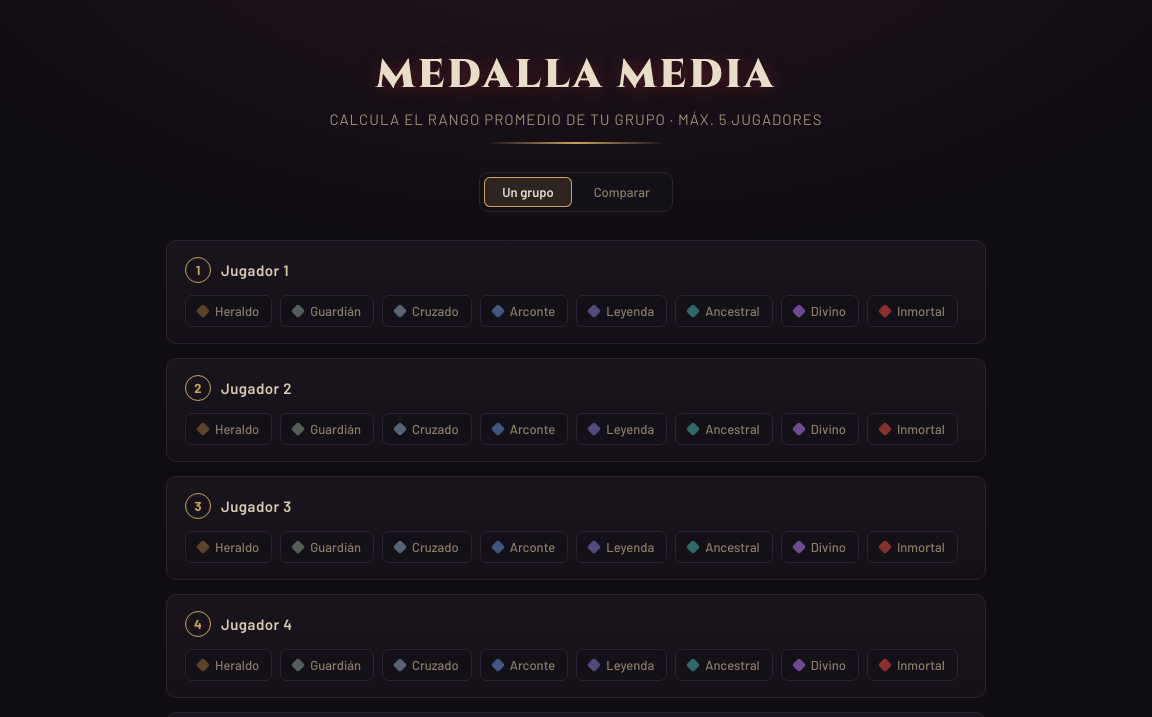
Test case: App · comparison mode › refuses to pick a winner when the ranges overlap
Click the button "Comparar".
click(622, 192)  # box [576,177,668,207]
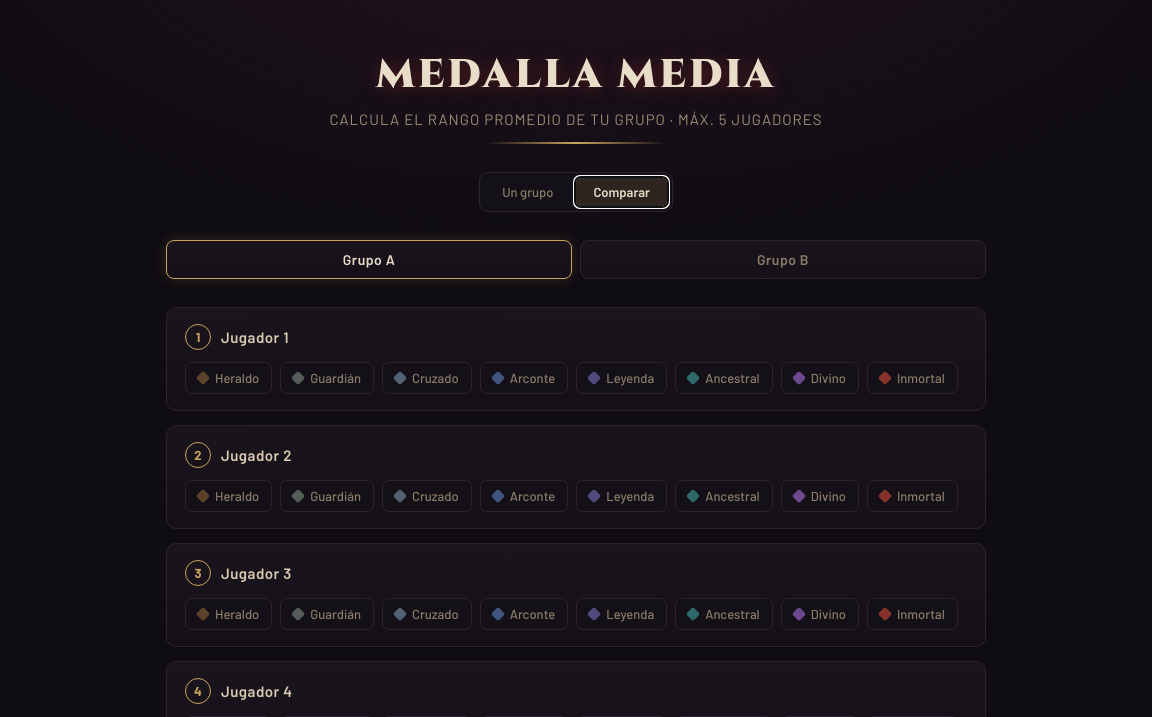
Click the 1st button "Arconte".
click(524, 378)  # box [480,362,568,394]
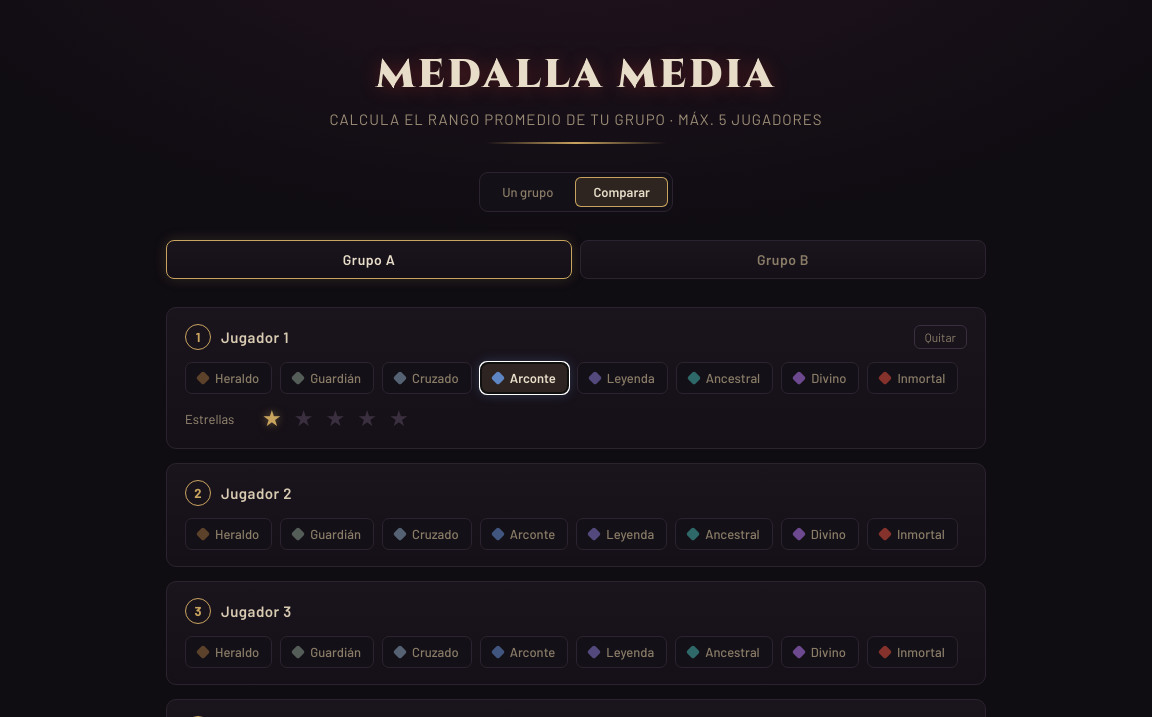
Click the tab "Grupo B".
click(783, 260)  # box [580,240,986,279]
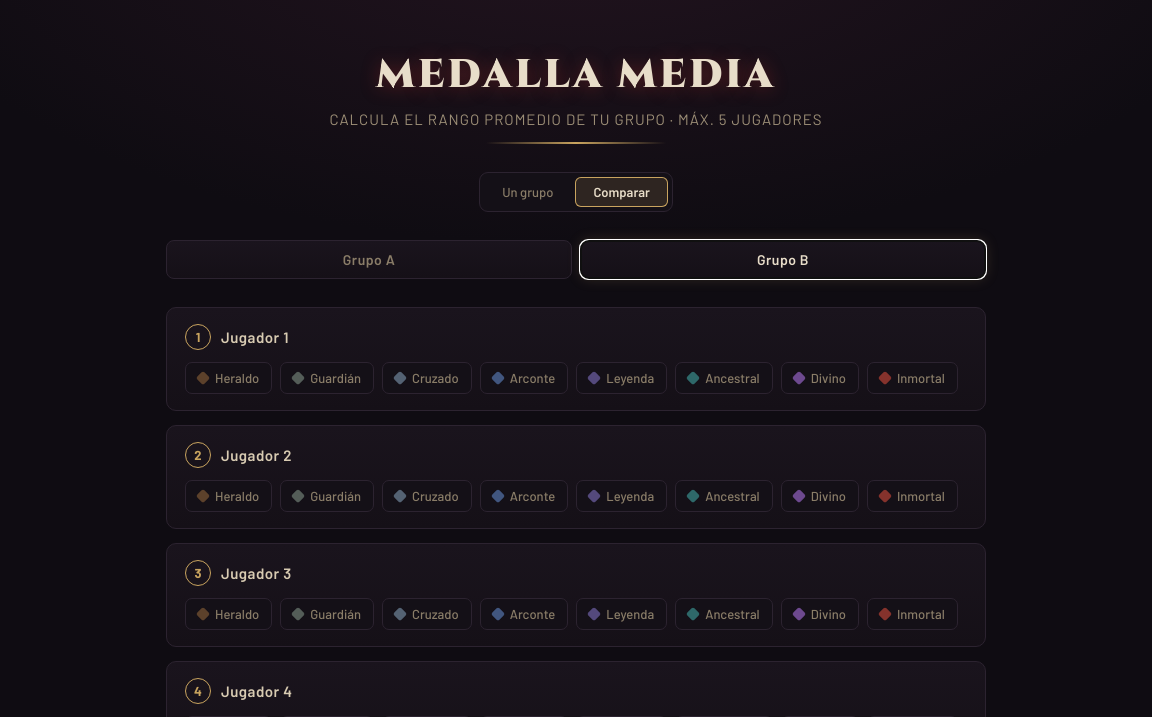
Click the 1st button "Arconte".
click(524, 378)  # box [480,362,568,394]
(page scrolled)
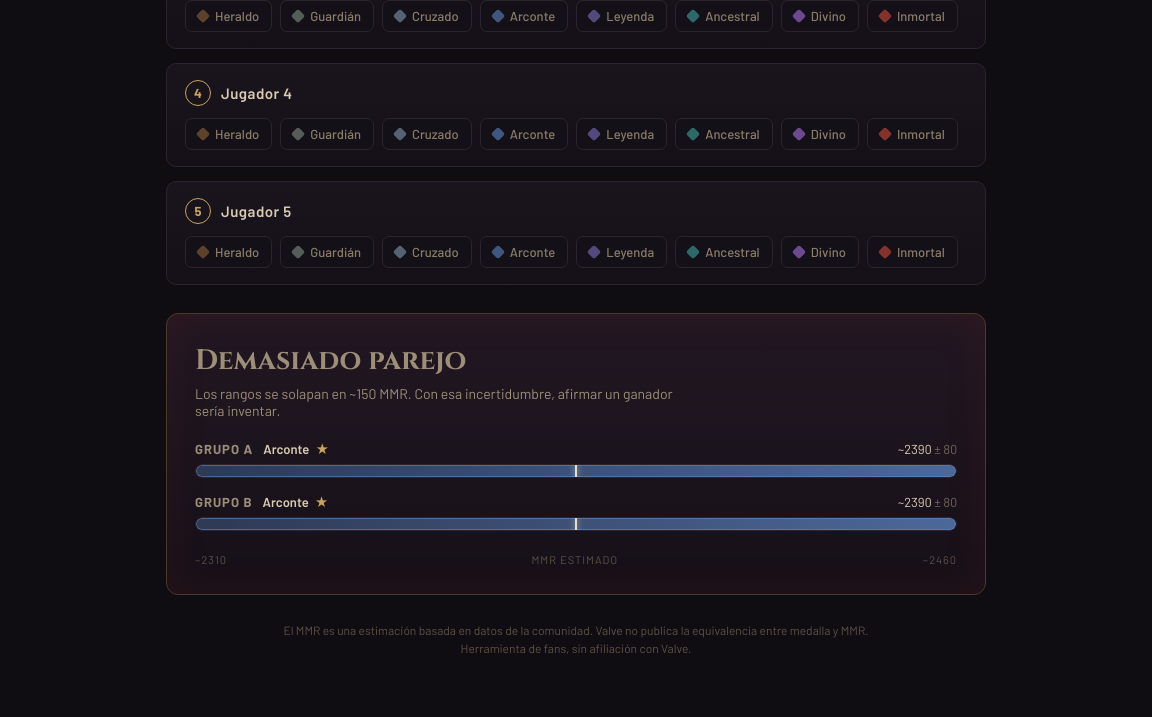
Result: the text "Demasiado parejo" is shown at [195,342,466,379]
